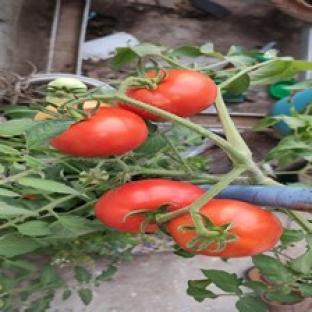Tomato: (166, 200, 282, 257), (95, 179, 204, 232), (51, 108, 147, 157), (127, 69, 217, 116), (269, 88, 311, 116), (84, 101, 108, 110)
